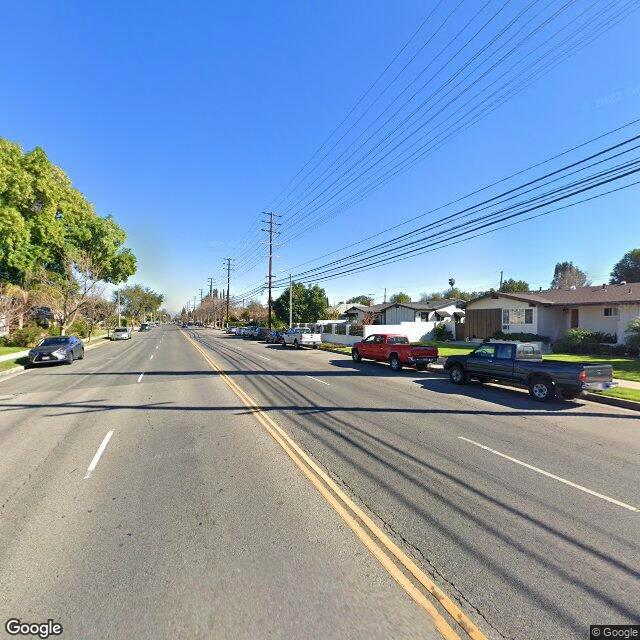crack: (296, 445, 514, 637)
